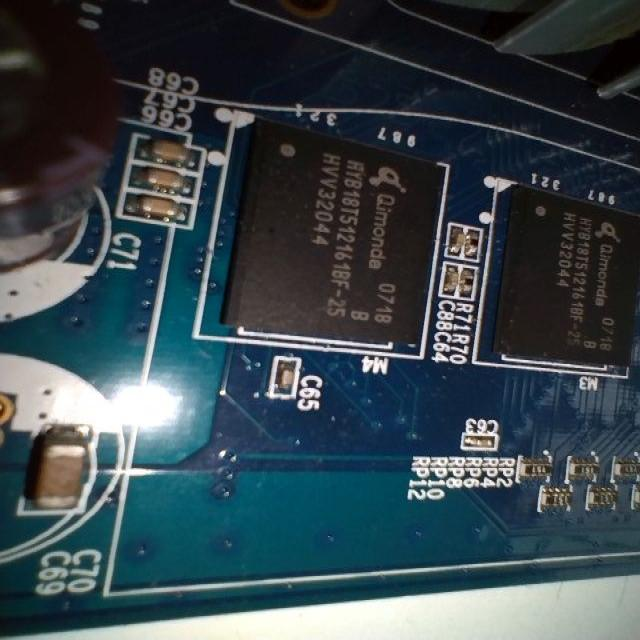capacitor: (20, 409, 97, 532), (120, 183, 198, 248), (262, 348, 302, 413), (460, 426, 501, 456), (446, 207, 466, 266), (440, 259, 466, 303)
